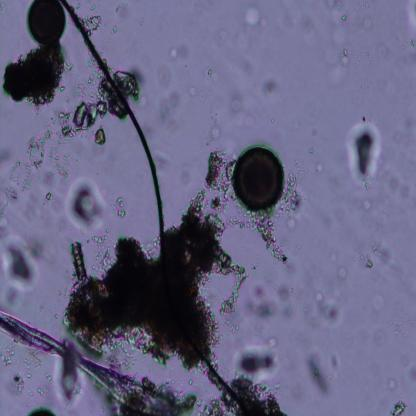Background material: (61, 211, 239, 367), (186, 360, 309, 416), (3, 46, 65, 105), (239, 210, 296, 271), (0, 136, 42, 213), (348, 117, 383, 186), (58, 98, 108, 143), (67, 179, 109, 230), (158, 72, 196, 128), (282, 156, 313, 218), (2, 241, 38, 289), (322, 3, 357, 47), (305, 349, 335, 397), (238, 342, 279, 376), (250, 281, 283, 318), (24, 130, 52, 169), (390, 300, 414, 343), (314, 294, 344, 328), (117, 65, 143, 101), (204, 147, 224, 191), (354, 192, 385, 219), (367, 240, 398, 267), (199, 80, 219, 116), (244, 7, 269, 30), (262, 77, 283, 100), (86, 13, 103, 38), (25, 404, 57, 416), (370, 290, 386, 314), (201, 64, 217, 86), (337, 45, 350, 69), (392, 397, 408, 416), (230, 94, 244, 115), (94, 126, 107, 147), (166, 42, 180, 61), (362, 14, 374, 35), (375, 330, 391, 344), (386, 376, 400, 391), (364, 252, 374, 271), (210, 125, 221, 142), (337, 266, 347, 284), (44, 192, 54, 204), (377, 46, 387, 58), (329, 250, 337, 264)
Cellulose filter fibre: (0, 310, 189, 416)
Diatom: (233, 144, 285, 212), (28, 0, 65, 45)
